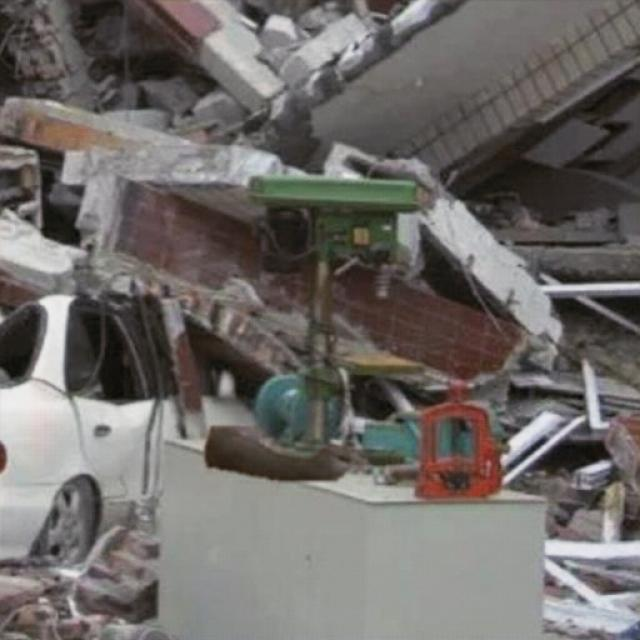Person in Rubble: (205, 426, 366, 480)
